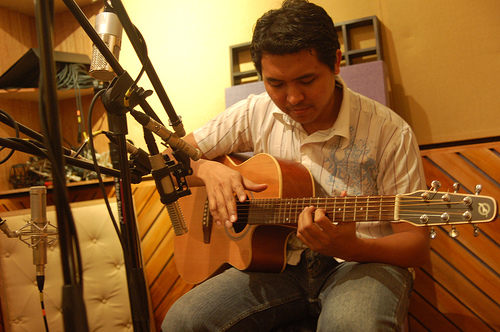guitar: (172, 153, 498, 286)
